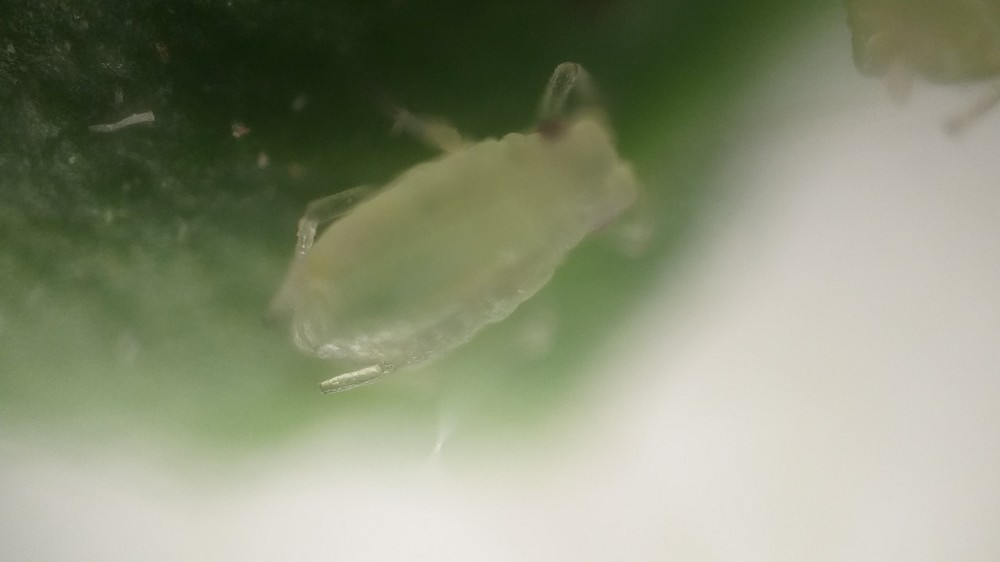Pulgon: (241, 52, 714, 397)
